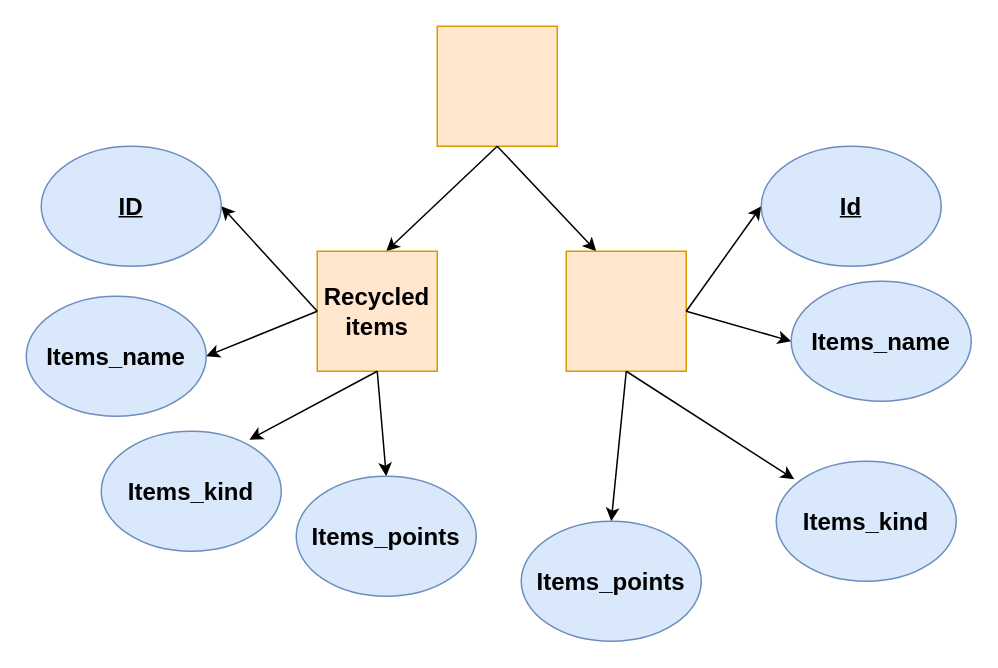
Some shapes in this 998 by 668 pixel diagram are drawn without their labels. Here are the shapes that lost their labels. From the top down, the box of each, then its label:
(436, 25, 557, 146): Items
(565, 250, 686, 371): Reused items
